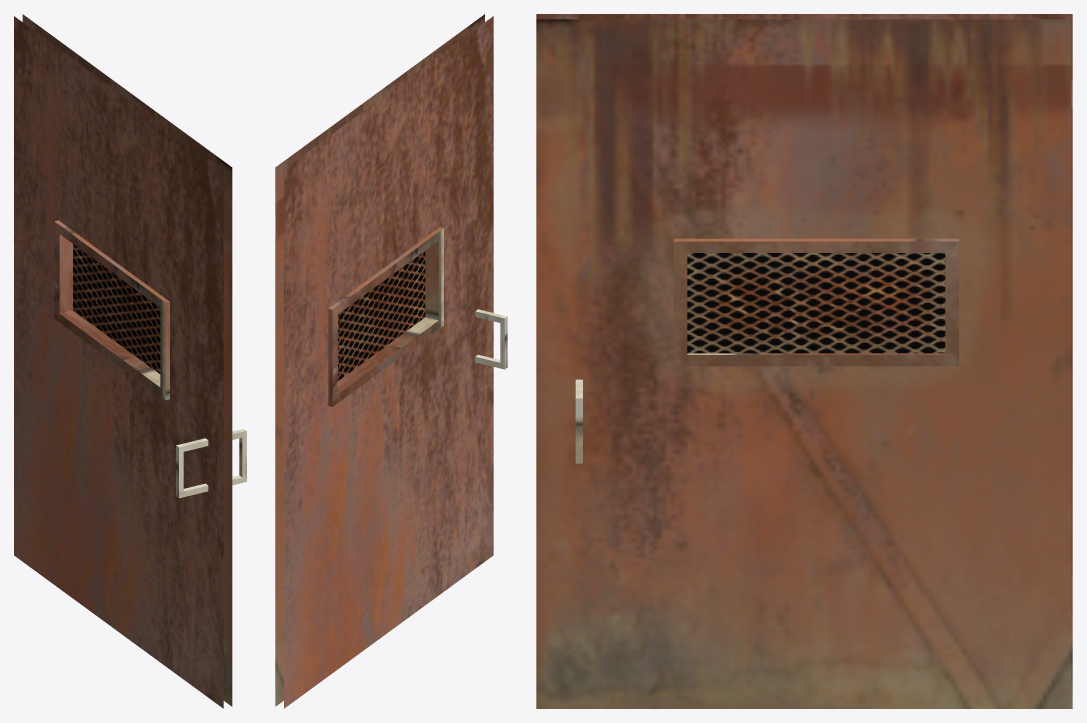
The model's file is DOOR.fbx.
The picture shows the model from 3 angles, left to right: view 1: azimuth 30°, elevation 25°; view 2: azimuth 150°, elevation 25°; view 3: azimuth 270°, elevation 25°; orthographic projection. The views are drawn at different scales.
Parts seen in each view (by area): view 1: Object002; view 2: Object002; view 3: Object002.
Boxes of the visible parts, bbox=[...] form: Object002: bbox=[14, 14, 246, 708]; Object002: bbox=[275, 14, 507, 708]; Object002: bbox=[536, 14, 1072, 708].
Bounding box in the file's own units: 23.72 × 180 × 127.
